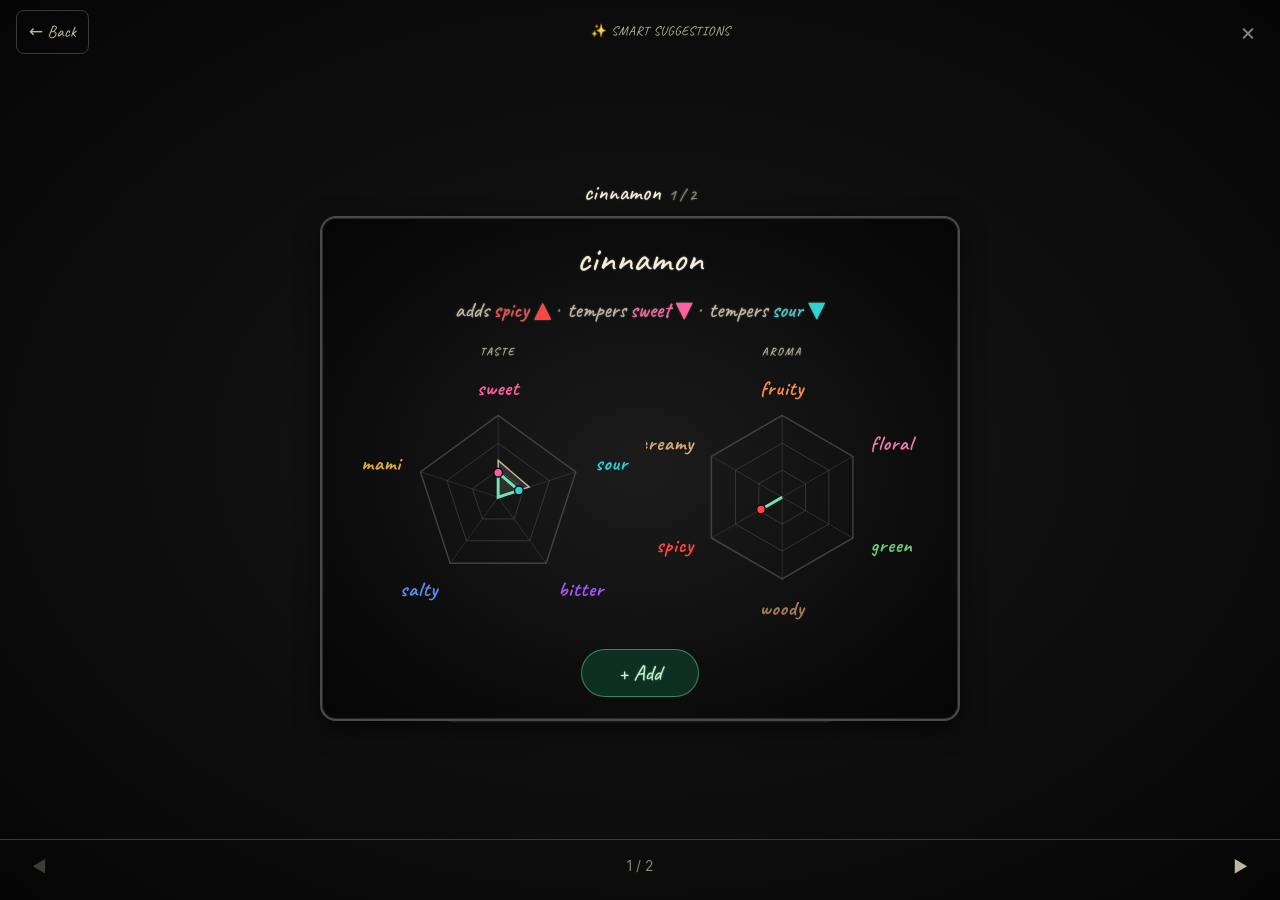
it: SuggestionCardDeck — add mode › labels each deck page with a title naming the candidate + position (HELP-5)
The image size is (1280, 900).
Expected: the heading with test id "deck-page-title" shows "cinnamon", [584,177,661,207]
Expected: the heading with test id "deck-page-title" shows "1 / 2", [584,176,696,208]
# Advancing the deck retitles the page to the next candidate.
Click the button with test id "deck-next".
click(1241, 866)  # box [1217,844,1264,888]
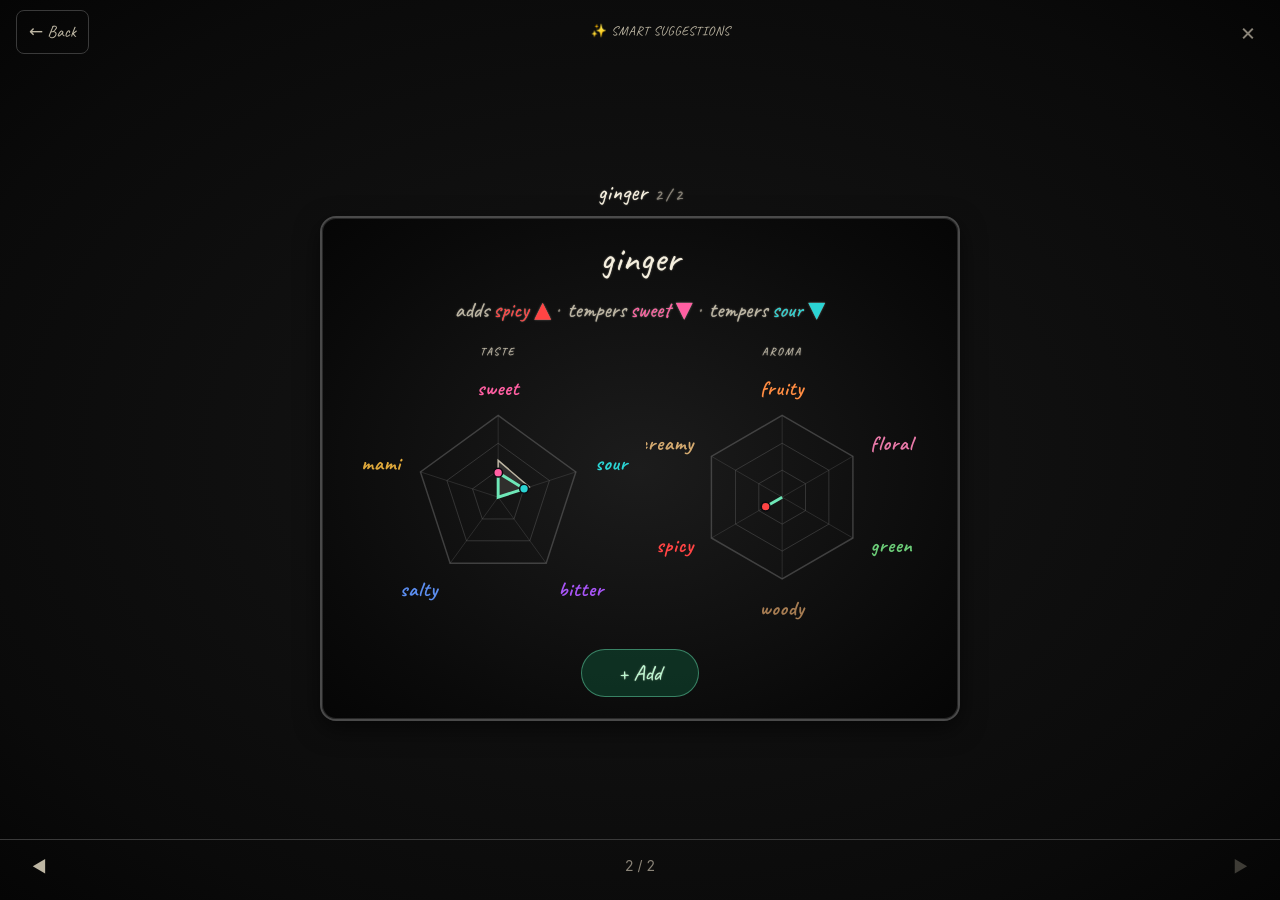
Expected: the heading with test id "deck-page-title" shows "ginger", [598,177,647,207]
Expected: the heading with test id "deck-page-title" shows "2 / 2", [598,176,682,208]
